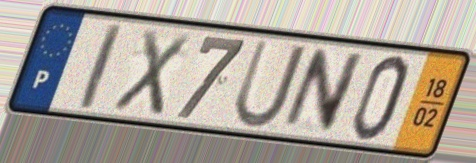0: (348, 52, 413, 144)
7: (172, 34, 250, 122)
I: (76, 19, 126, 113)
N: (277, 47, 369, 135)
U: (229, 36, 311, 131)
X: (107, 25, 194, 120)
